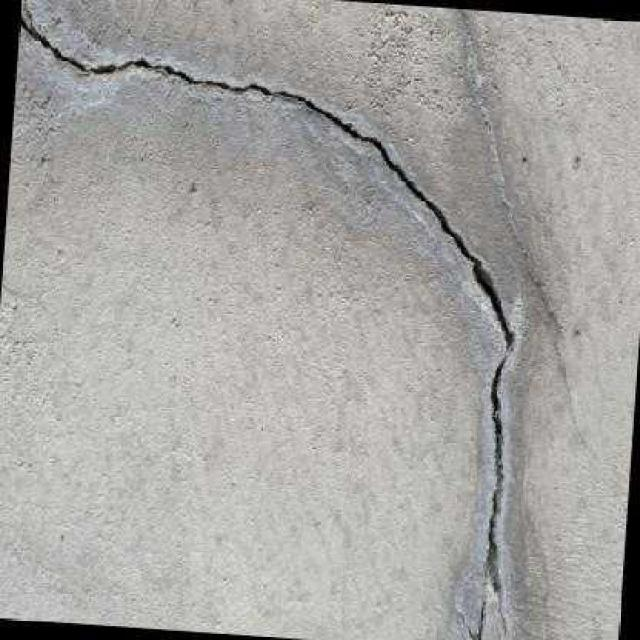D00: (19, 8, 520, 640)
